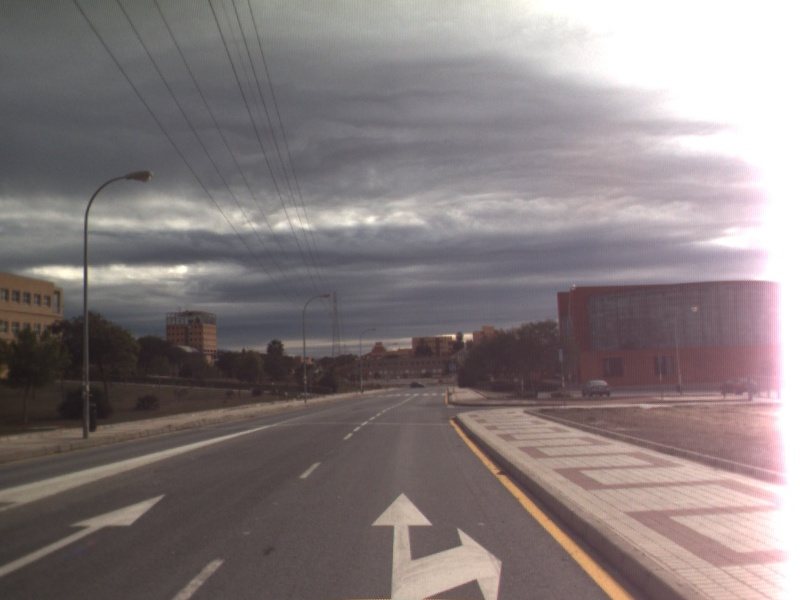STRAIGHT: (1, 492, 169, 578)
STRAIGHT_RIGHT: (368, 490, 505, 600)
